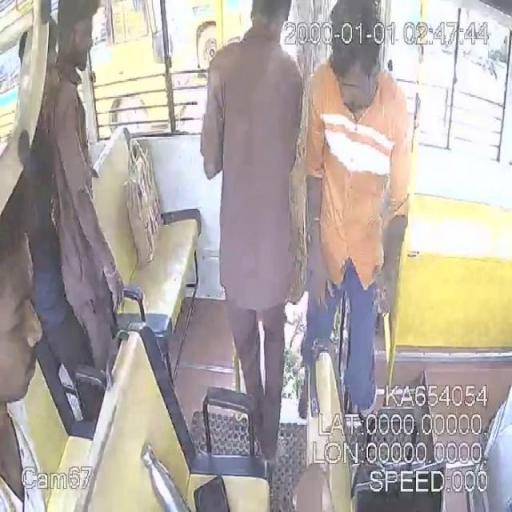persona: (0, 1, 127, 510), (199, 0, 306, 474), (298, 0, 412, 420)
